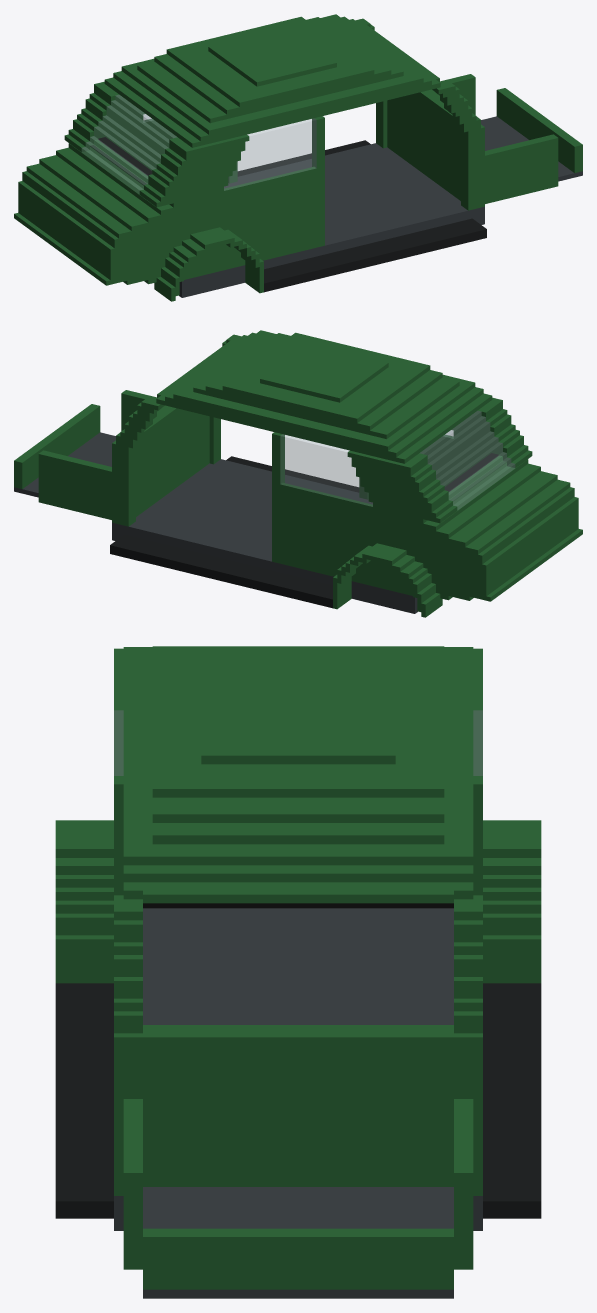
File: classic_small_car_shell.glb
3 views of the same model, one above another, from view 1: azimuth 30°, elevation 25°; view 2: azimuth 150°, elevation 25°; view 3: azimuth 270°, elevation 25° (orthographic). The views are drawn at different scales.
Visible parts, largest first — view 1: body:compound; view 2: body:compound; view 3: body:compound.
Part boxes in pixels (x1=…): body:compound: x1=14, y1=14, x2=582, y2=301; body:compound: x1=14, y1=330, x2=582, y2=617; body:compound: x1=55, y1=646, x2=541, y2=1298.
Bounding box in the file's own units: 3.59 × 1.25 × 1.56.
